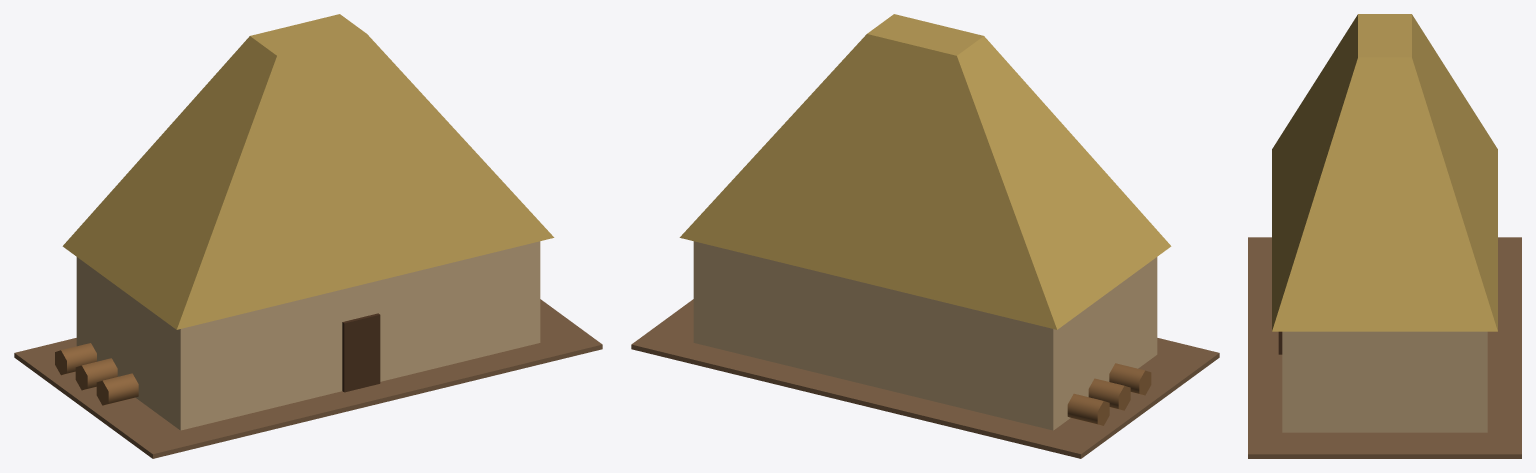
Rendered from bld_special_warehouse_a01_lod1.glb.
The picture shows the model from 3 angles, left to right: view 1: azimuth 30°, elevation 25°; view 2: azimuth 150°, elevation 25°; view 3: azimuth 270°, elevation 25°; orthographic projection.
Visible parts, largest first — view 1: body; view 2: body; view 3: body.
Part boxes in pixels (box(x1,y1,x2,y2)): body: box(14, 14, 602, 458); body: box(631, 14, 1219, 458); body: box(1248, 14, 1521, 458).
Bounding box in the file's own units: 15 × 10.15 × 8.
